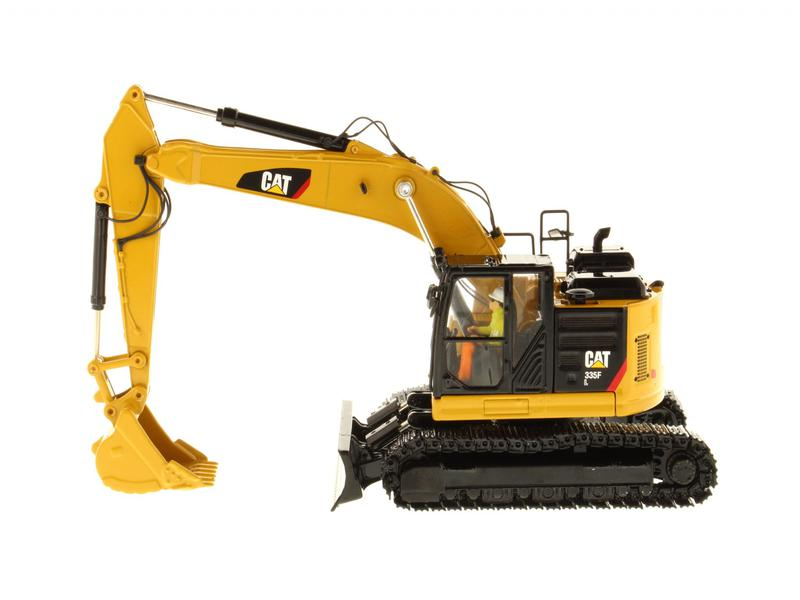shovel: (77, 79, 716, 525)
